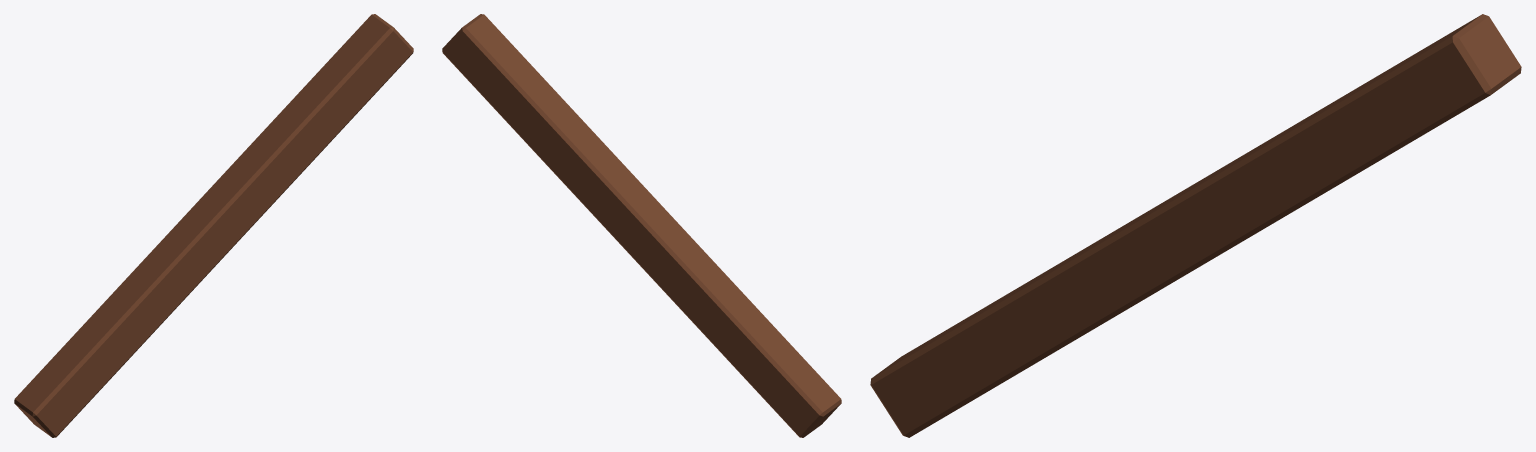
The model's file is SM_Menu_WallBrace_10.fbx.
3 renders of one model, left to right at view 1: azimuth 30°, elevation 25°; view 2: azimuth 150°, elevation 25°; view 3: azimuth 330°, elevation 25°, orthographic. The views are drawn at different scales.
Visible parts, largest first — view 1: SM_Menu_WallBrace_10; view 2: SM_Menu_WallBrace_10; view 3: SM_Menu_WallBrace_10.
Boxes of the visible parts, x1,y1,x2,y2 form: SM_Menu_WallBrace_10: (14,14,413,437); SM_Menu_WallBrace_10: (442,14,841,437); SM_Menu_WallBrace_10: (870,14,1521,437).
Size of the model in its own units: 274 by 27 by 226.
